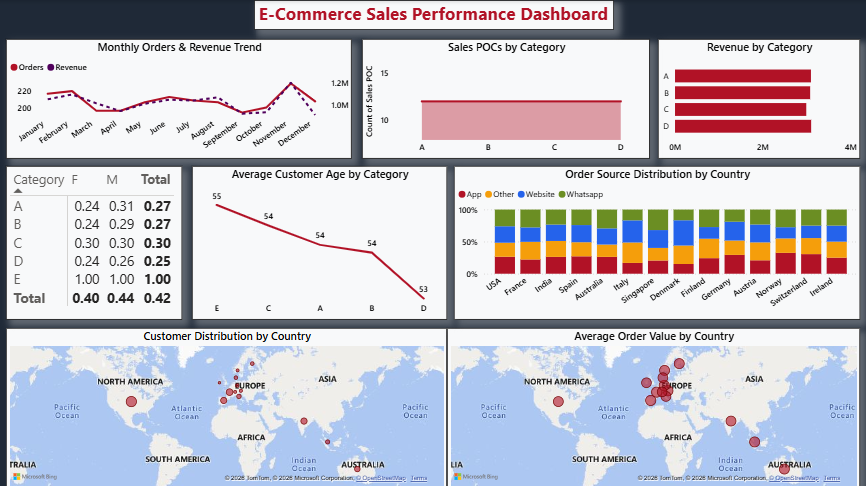

What the dashboard file says about the page in this screenshot:
{"tool":"powerbi","page":{"name":"Customer & Revenue Insights","canvas":[1280,720],"ordinal":1},"visuals":[{"type":"lineChart","title":"Monthly Orders & Revenue Trend","fields":{"Category":["Orders.Order Datetime.Variation.Date Hierarchy.Month"],"Y":["Count(Orders.Order ID)"],"Y2":["Sum(Orders.Order Value)"]},"box":[11.8,57.3,508.4,176.3],"z":0},{"type":"map","title":"Customer Distribution by Country","fields":{"Category":["Orders.Customer Country"],"Size":["CountNonNull(Orders.Customer ID)"]},"box":[11.8,482,648,236.6],"z":1000},{"type":"map","title":"Average Order Value by Country","fields":{"Category":["Orders.Customer Country"],"Size":["Avg(Orders.Order Value)"]},"box":[659.8,482,606.9,236.6],"z":2000},{"type":"hundredPercentStackedColumnChart","title":"Order Source Distribution by Country","fields":{"Category":["Orders.Customer Country"],"Series":["Orders.Order Source"],"Y":["Count(Orders.Order ID)"]},"box":[670,243.9,596.6,226.3],"z":3000},{"type":"lineChart","title":"Average Customer Age by Category","fields":{"Category":["Customers.Category"],"Y":["Avg(Customers.Age)"]},"box":[285.1,243.9,374.7,226.3],"z":4000},{"type":"barChart","title":"Revenue by Category","fields":{"Category":["Customers.Category"],"Y":["Sum(Orders.Order Value)"]},"box":[969.8,57.3,296.8,176.3],"z":5000},{"type":"areaChart","title":"Sales POCs by Category","fields":{"Category":["Customers.Category"],"Y":["CountNonNull(Sales Targets.Sales POC)"]},"box":[534.9,57.3,423.2,176.3],"z":6000},{"type":"pivotTable","fields":{"Rows":["Customers.Category"],"Columns":["Customers.Gender"],"Values":["Customers.% Customers Did Not Order"]},"box":[11.8,243.9,258.6,226.3],"z":7000},{"type":"textbox","title":"E-Commerce Sales Performance Dashboard","box":[375.5,0,529,44.1],"z":8000}]}

Visuals, with their boxes in screenshot pixels (x1, y1, x2, y2), scaled from the page's 1280x720 canvas onto the 866x486 screenshot:
"Monthly Orders & Revenue Trend" lineChart: box(8, 39, 352, 158)
"Customer Distribution by Country" map: box(8, 325, 446, 485)
"Average Order Value by Country" map: box(446, 325, 857, 485)
"Order Source Distribution by Country" hundredPercentStackedColumnChart: box(453, 165, 857, 317)
"Average Customer Age by Category" lineChart: box(193, 165, 446, 317)
"Revenue by Category" barChart: box(656, 39, 857, 158)
"Sales POCs by Category" areaChart: box(362, 39, 648, 158)
pivotTable - Customers.Category x Customers.Gender: box(8, 165, 183, 317)
"E-Commerce Sales Performance Dashboard" textbox: box(254, 0, 612, 30)
